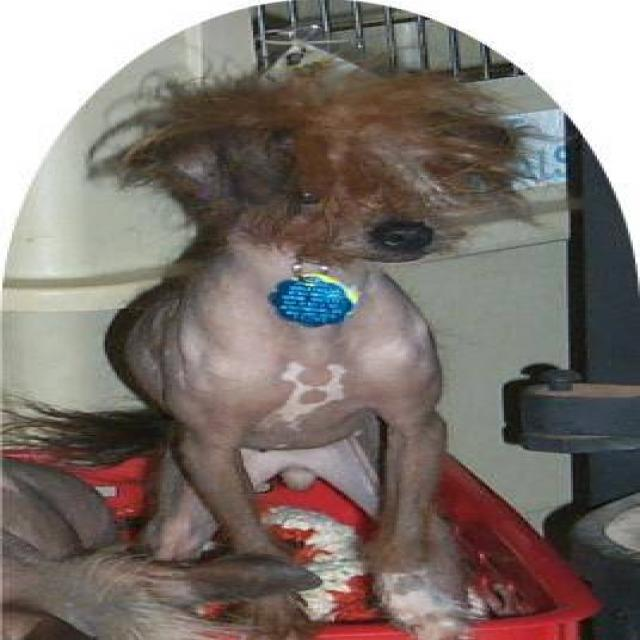dog: (31, 59, 525, 640)
